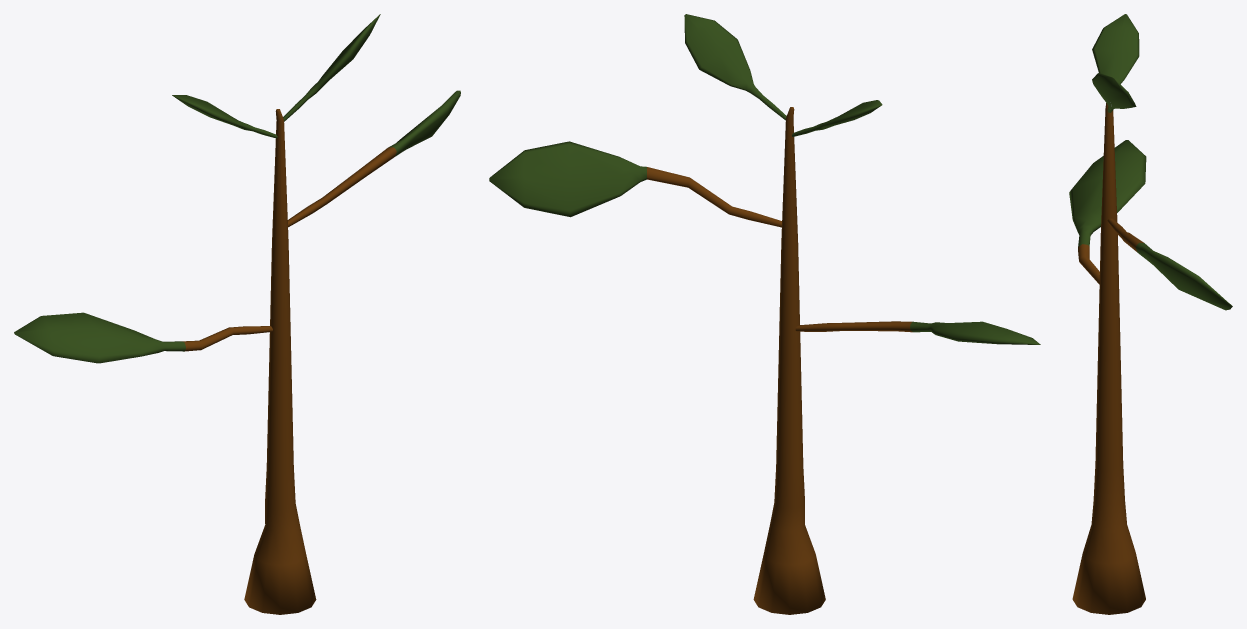
The model's file is HalfGrown.fbx.
The picture shows the model from 3 angles, left to right: view 1: azimuth 30°, elevation 25°; view 2: azimuth 150°, elevation 25°; view 3: azimuth 270°, elevation 25°; orthographic projection. The views are drawn at different scales.
Parts seen in each view (by area): view 1: HalfGrown; view 2: HalfGrown; view 3: HalfGrown.
Part boxes in pixels (x1=…): HalfGrown: x1=14, y1=14, x2=460, y2=614; HalfGrown: x1=489, y1=14, x2=1040, y2=614; HalfGrown: x1=1069, y1=14, x2=1232, y2=614.
Bounding box in the file's own units: 366 × 393 × 102.
